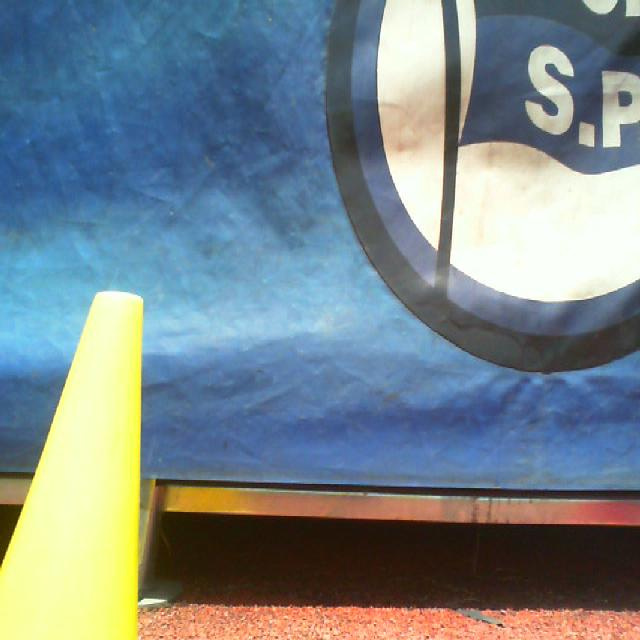cone: (0, 290, 143, 640)
